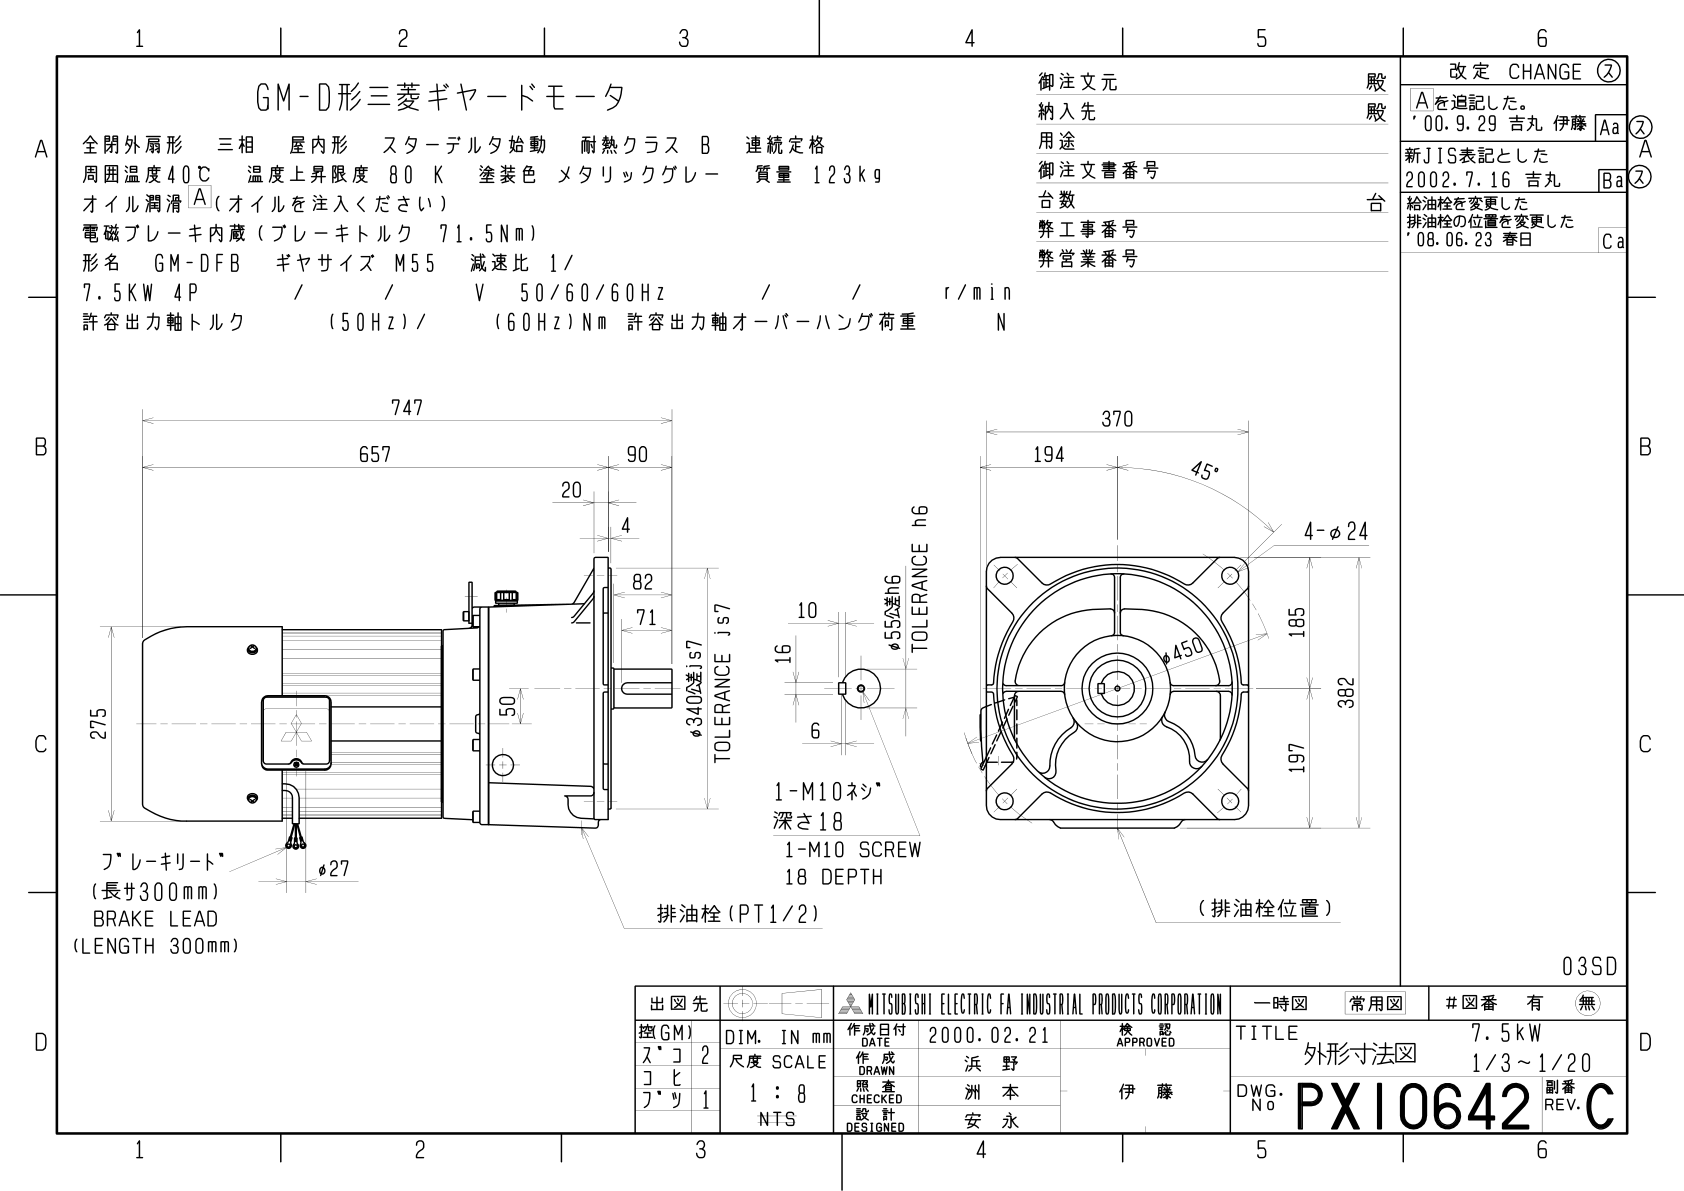GM_D_屋内＿三相_フランジ: (5, 6, 1684, 1191)
